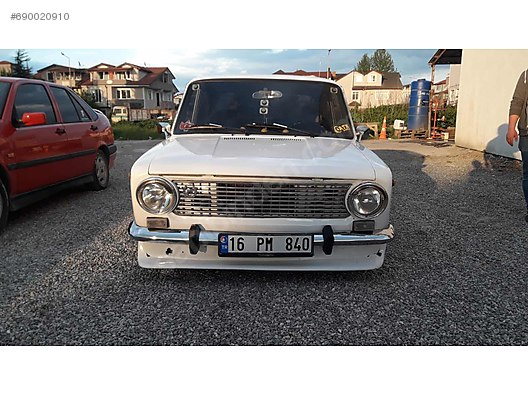murat: (122, 74, 396, 279)
